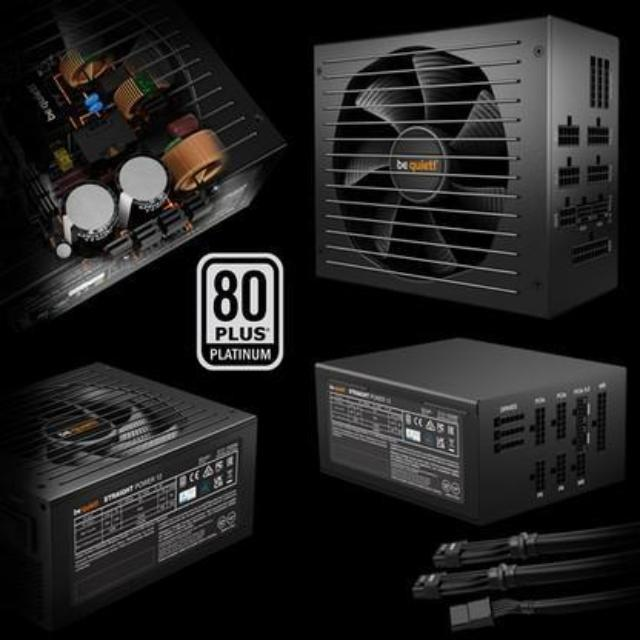PSU: (296, 30, 630, 328), (0, 350, 271, 618), (306, 328, 638, 524)
